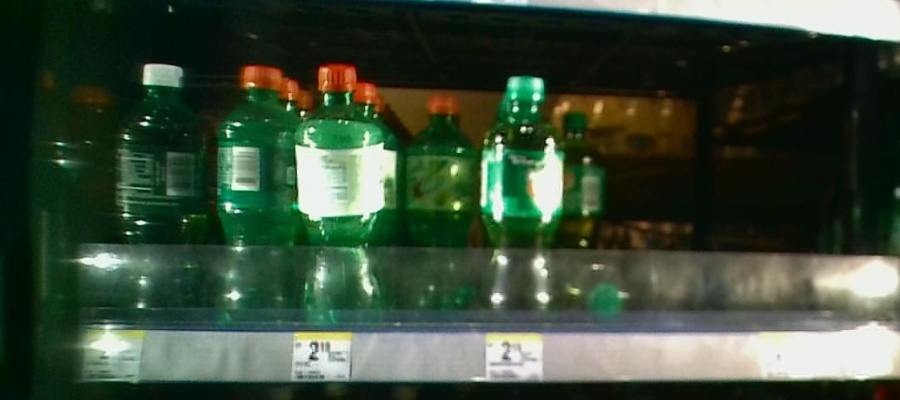bottle: (112, 60, 212, 324), (297, 54, 389, 318), (213, 58, 293, 327), (477, 76, 560, 324), (398, 74, 474, 306), (561, 108, 607, 280)
